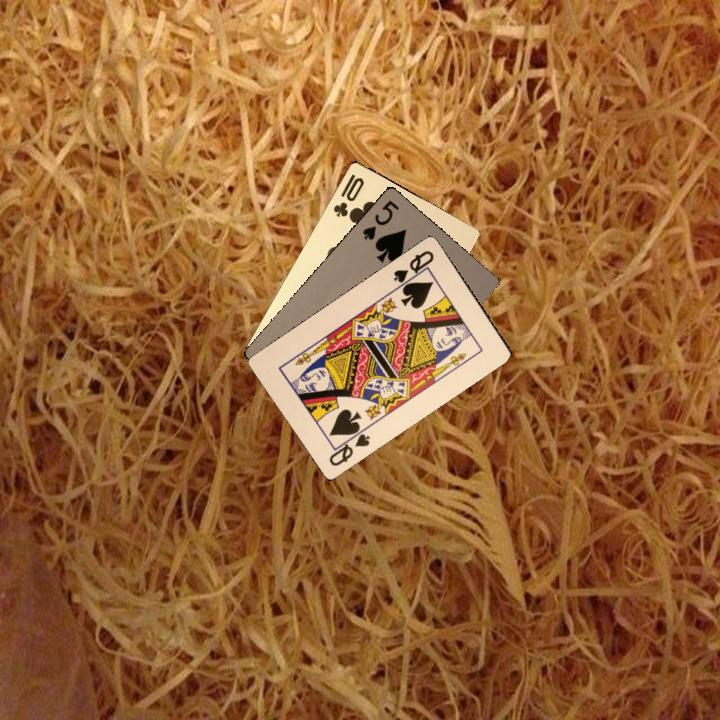10c: (329, 170, 367, 221)
5s: (358, 196, 401, 243)
Qs: (389, 246, 437, 291), (325, 425, 372, 469)
